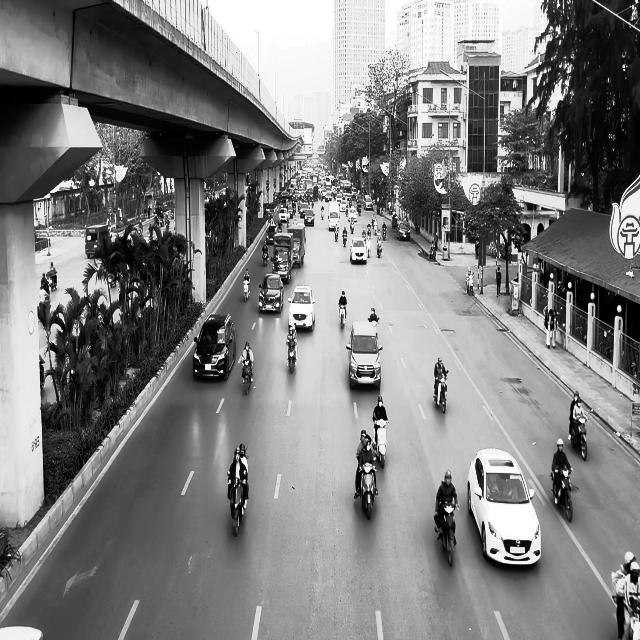bus: (84, 224, 110, 258)
car: (467, 447, 542, 566), (193, 313, 236, 381), (346, 320, 383, 389), (288, 284, 316, 332), (258, 272, 284, 313), (350, 236, 367, 264), (397, 221, 411, 241)
motorbike: (436, 500, 459, 567), (358, 458, 379, 520), (551, 466, 574, 522), (228, 475, 248, 536), (570, 413, 588, 460), (373, 418, 388, 468), (434, 369, 449, 414), (242, 359, 254, 395), (286, 340, 298, 372), (370, 315, 380, 341), (339, 302, 347, 328), (243, 278, 250, 302), (262, 248, 269, 266)
